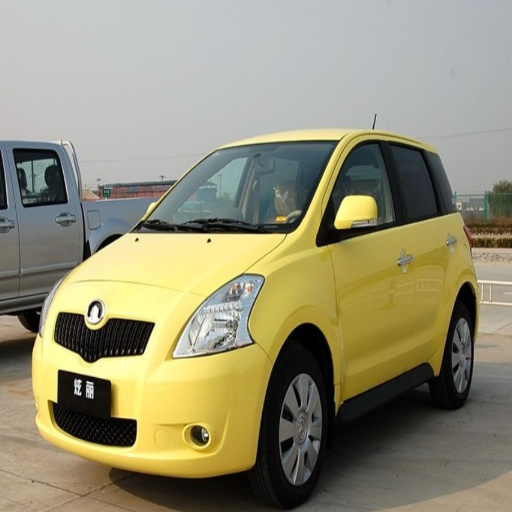front_bumper: (35, 280, 276, 475)
front_glass: (133, 142, 337, 233)
front_left_door: (322, 136, 412, 393)
